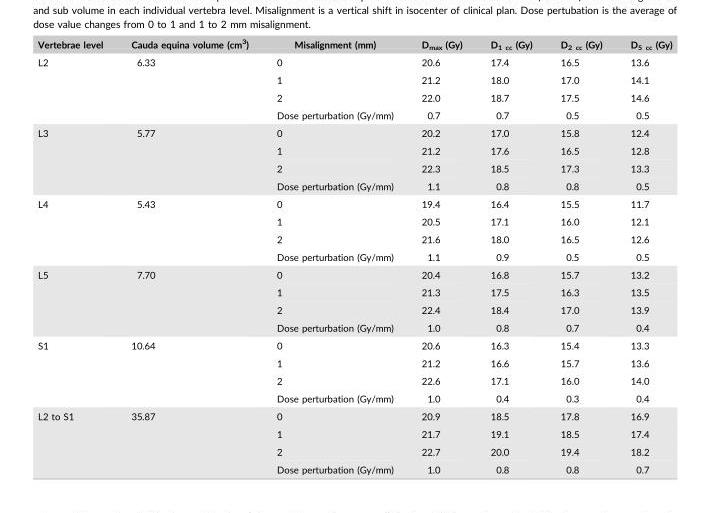table: (37, 37, 671, 474)
table column: (116, 37, 262, 474), (262, 37, 406, 474), (37, 37, 116, 474), (475, 37, 545, 474), (545, 37, 615, 474), (406, 37, 475, 474), (615, 37, 671, 474)
table column header: (37, 37, 671, 53)
table row: (37, 70, 671, 88), (37, 105, 671, 123), (37, 123, 671, 141), (37, 141, 671, 159), (37, 176, 671, 194), (37, 194, 671, 212), (37, 229, 671, 247), (37, 247, 671, 265), (37, 282, 671, 300), (37, 300, 671, 318), (37, 318, 671, 336), (37, 353, 671, 371), (37, 371, 671, 389), (37, 406, 671, 424), (37, 424, 671, 442), (37, 53, 671, 70), (37, 88, 671, 105), (37, 159, 671, 176), (37, 212, 671, 229), (37, 265, 671, 282), (37, 336, 671, 353), (37, 389, 671, 406), (37, 442, 671, 459), (37, 37, 671, 53), (37, 459, 671, 474)
table spanning cell: (116, 123, 262, 194), (116, 194, 262, 265), (116, 265, 262, 336), (116, 53, 262, 123), (116, 336, 262, 406), (116, 406, 262, 474), (37, 123, 116, 194), (37, 194, 116, 265), (37, 265, 116, 336), (37, 53, 116, 123), (37, 336, 116, 406), (37, 406, 116, 474)
